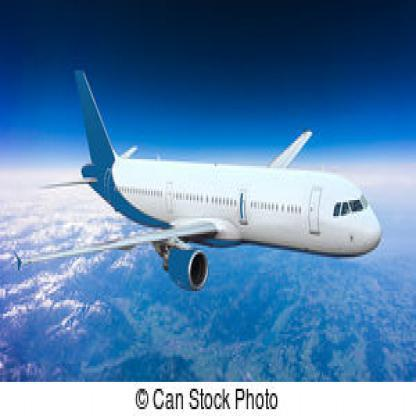CIV_Plane: (8, 64, 382, 308)
